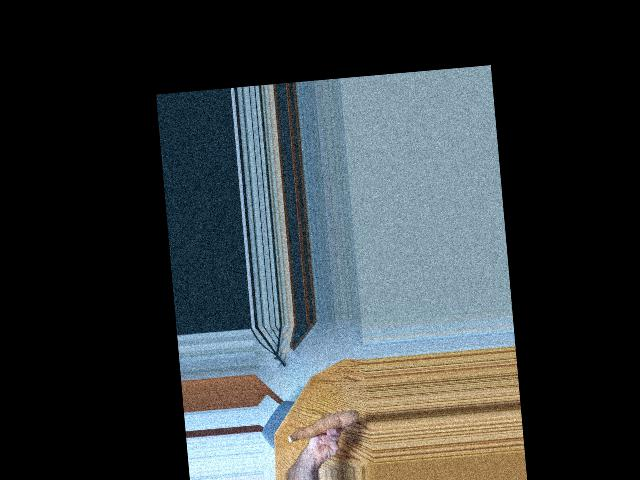sweet_potato: (284, 407, 358, 446)
